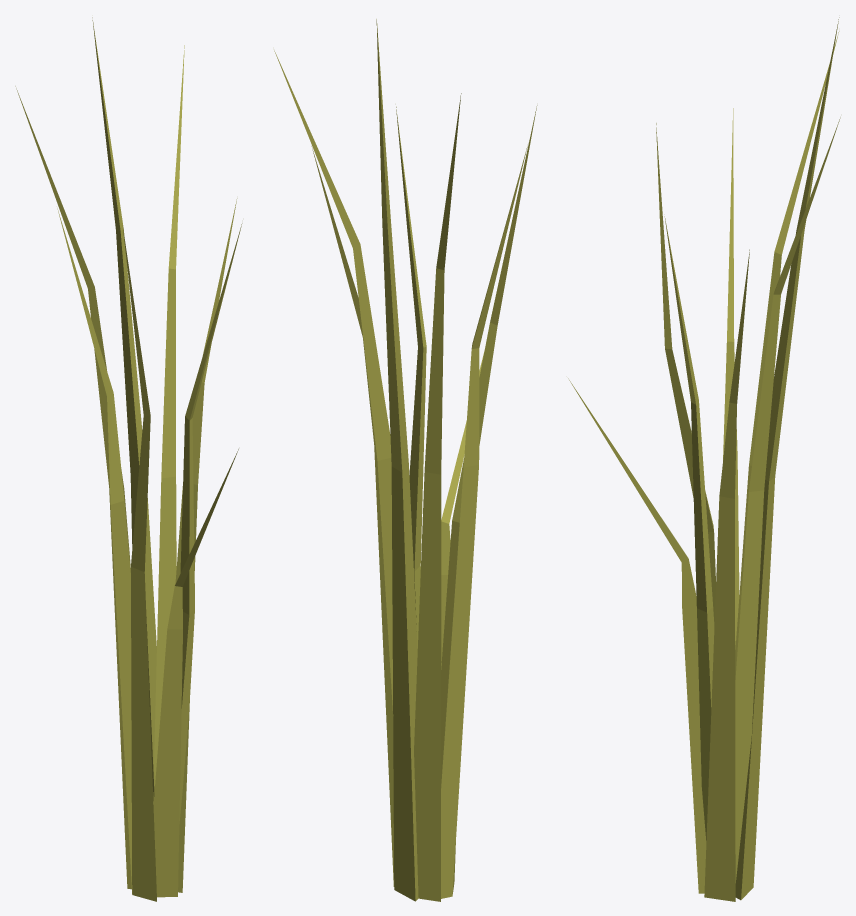
Rendered from Grass_5_Yellow.fbx.
The picture shows the model from 3 angles, left to right: view 1: azimuth 30°, elevation 25°; view 2: azimuth 150°, elevation 25°; view 3: azimuth 270°, elevation 25°; orthographic projection. The views are drawn at different scales.
Parts seen in each view (by area): view 1: Grass_5_Yellow; view 2: Grass_5_Yellow; view 3: Grass_5_Yellow.
Boxes of the visible parts, bbox=[...] form: Grass_5_Yellow: bbox=[15, 17, 242, 901]; Grass_5_Yellow: bbox=[274, 19, 537, 901]; Grass_5_Yellow: bbox=[568, 17, 840, 901].
Size of the model in its own units: 23.91 by 101 by 28.97.
